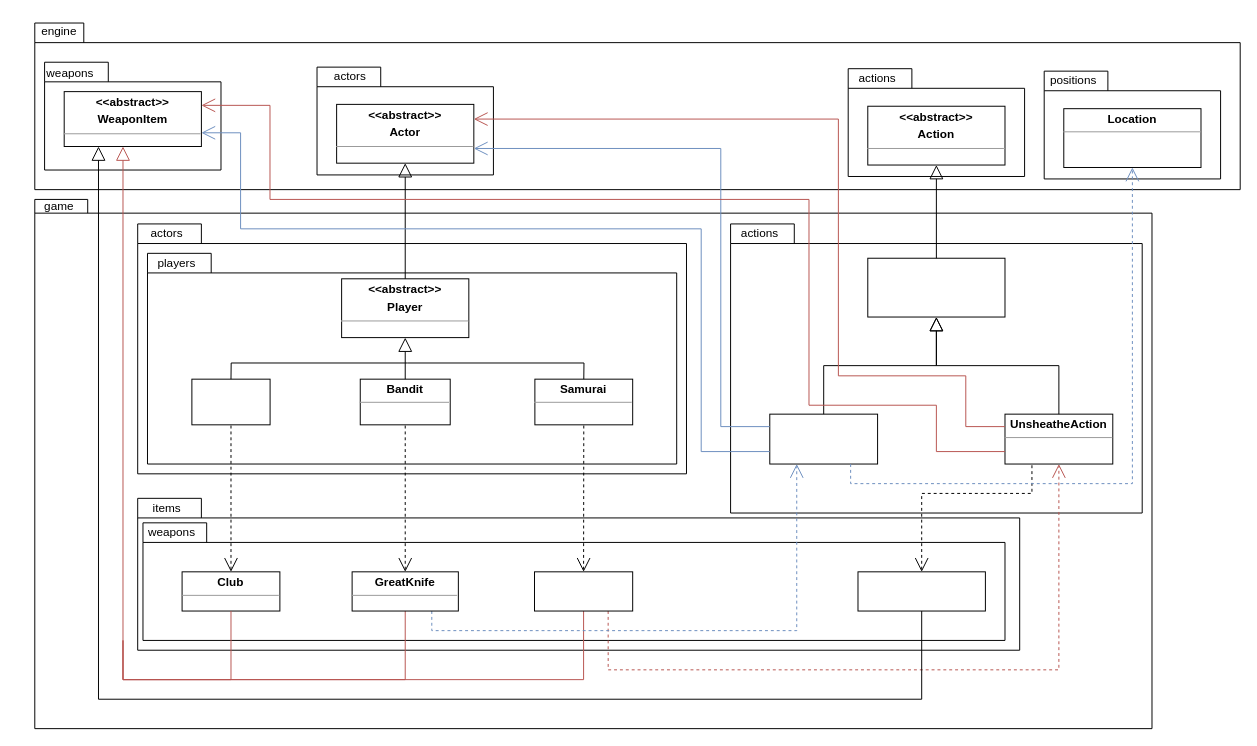
This 1257x746 diagram has some shape labels left out. The centre of each missing label's shape, as x and y in pixels:
AttackAction: the point at 936,287
QuickstepAction: the point at 823,438
Uchigatana: the point at 583,591
UnsheatheWeapon: the point at 921,591
Wretch: the point at 230,401
